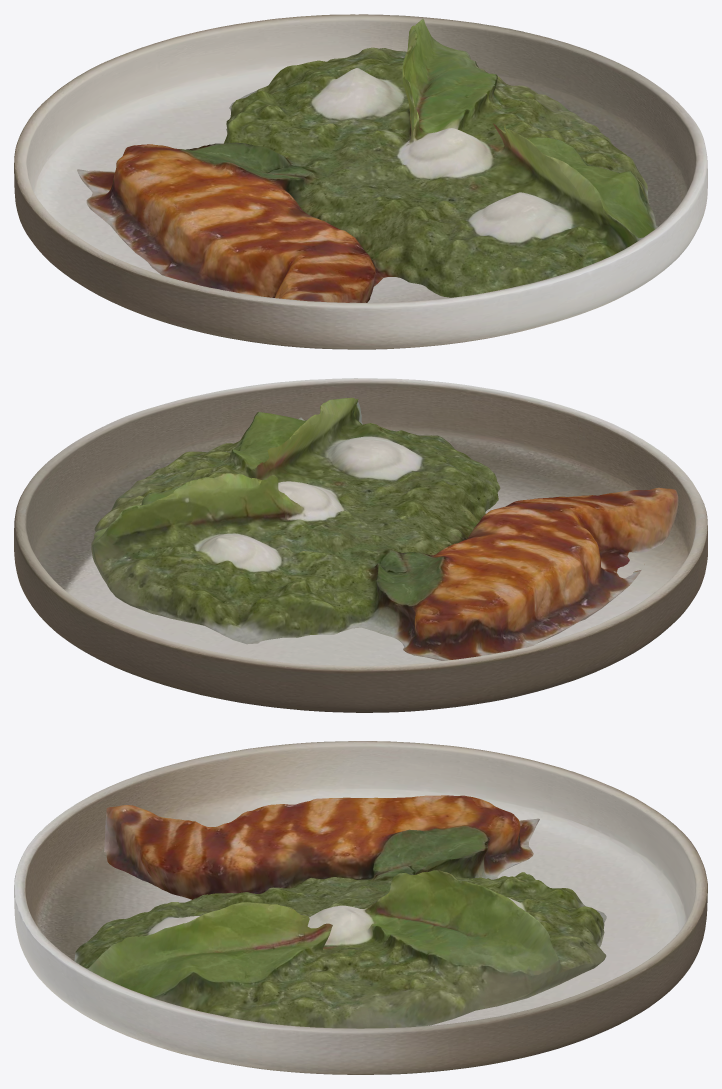
File: OmelettewithsalmonSet03.002.glb
The picture shows the model from 3 angles, top to bottom: view 1: azimuth 30°, elevation 25°; view 2: azimuth 150°, elevation 25°; view 3: azimuth 270°, elevation 25°; orthographic projection.
Visible parts, largest first — view 1: /Root/Scenes/Scene/Object_42/Object_43/Submesh_0, /Root/Scenes/Scene/Object_42/Object_44/Object_45/Submesh_0; view 2: /Root/Scenes/Scene/Object_42/Object_43/Submesh_0, /Root/Scenes/Scene/Object_42/Object_44/Object_45/Submesh_0; view 3: /Root/Scenes/Scene/Object_42/Object_44/Object_45/Submesh_0, /Root/Scenes/Scene/Object_42/Object_43/Submesh_0.
Boxes of the visible parts, x1,y1,x2,y2 form: /Root/Scenes/Scene/Object_42/Object_43/Submesh_0: (77, 19, 657, 302); /Root/Scenes/Scene/Object_42/Object_44/Object_45/Submesh_0: (14, 14, 707, 349); /Root/Scenes/Scene/Object_42/Object_43/Submesh_0: (91, 397, 678, 660); /Root/Scenes/Scene/Object_42/Object_44/Object_45/Submesh_0: (14, 378, 707, 712); /Root/Scenes/Scene/Object_42/Object_44/Object_45/Submesh_0: (14, 741, 707, 1074); /Root/Scenes/Scene/Object_42/Object_43/Submesh_0: (74, 795, 606, 1028).
Size of the model in its own units: 0.2369 by 0.0434 by 0.237.
Materials: 2 (2 with a texture image).
